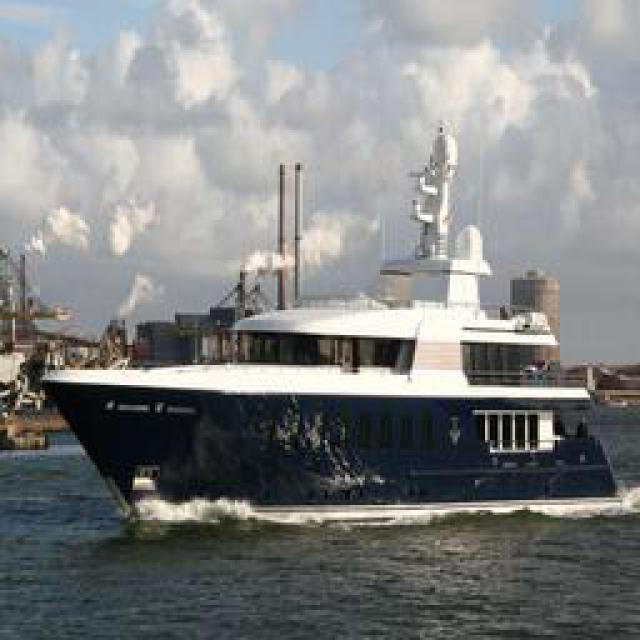Ship: (38, 267, 626, 520)
